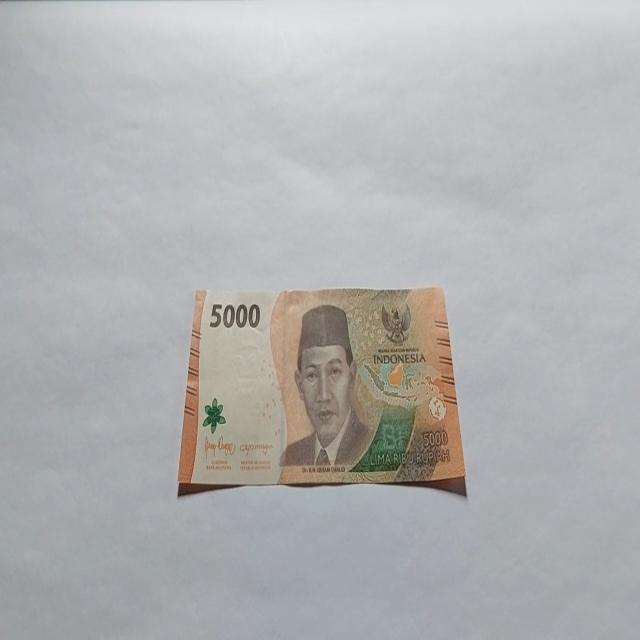lima ribu rupiah: (177, 284, 467, 498), (277, 304, 375, 474)
